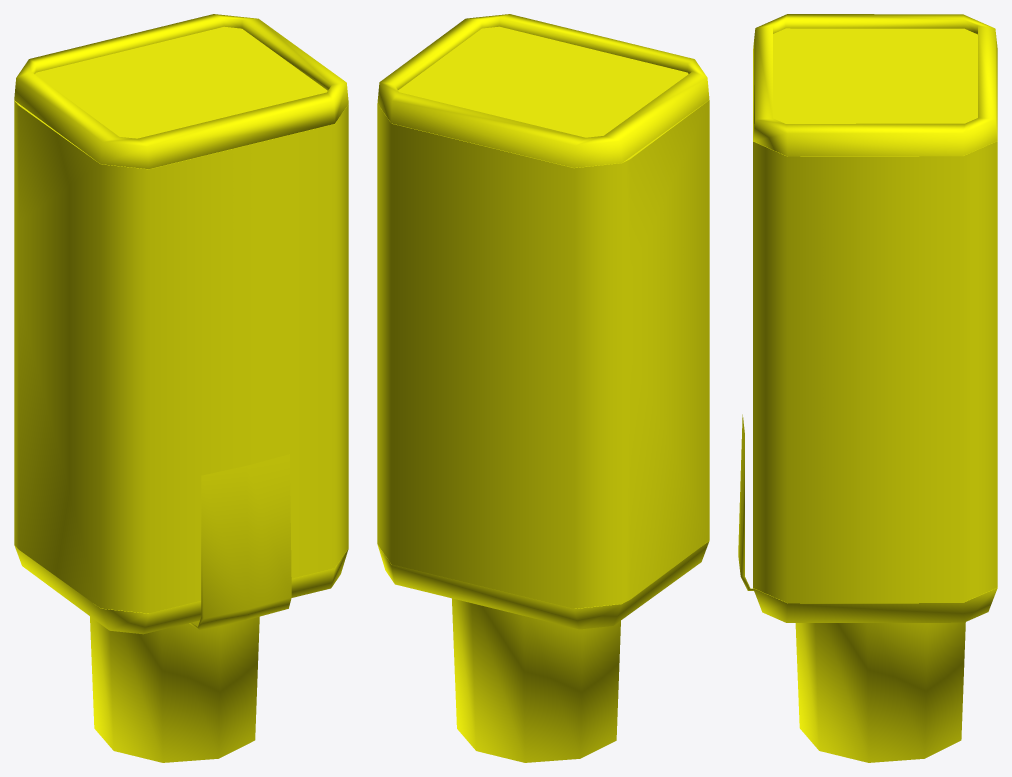
Rendered from sm_hana_cctv_bullet_camera_220_lod04.glb.
The picture shows the model from 3 angles, left to right: view 1: azimuth 30°, elevation 25°; view 2: azimuth 150°, elevation 25°; view 3: azimuth 270°, elevation 25°; orthographic projection.
Visible parts, largest first — view 1: sm_hana_cctv_bullet_camera_220_lod04; view 2: sm_hana_cctv_bullet_camera_220_lod04; view 3: sm_hana_cctv_bullet_camera_220_lod04.
Boxes of the visible parts, box(x1,y1,x2,y2) form: sm_hana_cctv_bullet_camera_220_lod04: box(14, 14, 348, 762); sm_hana_cctv_bullet_camera_220_lod04: box(377, 14, 709, 762); sm_hana_cctv_bullet_camera_220_lod04: box(738, 14, 997, 762).
Bounding box in the file's own units: 0.4643 × 1.17 × 0.4166.
2 materials, 1 textured.
